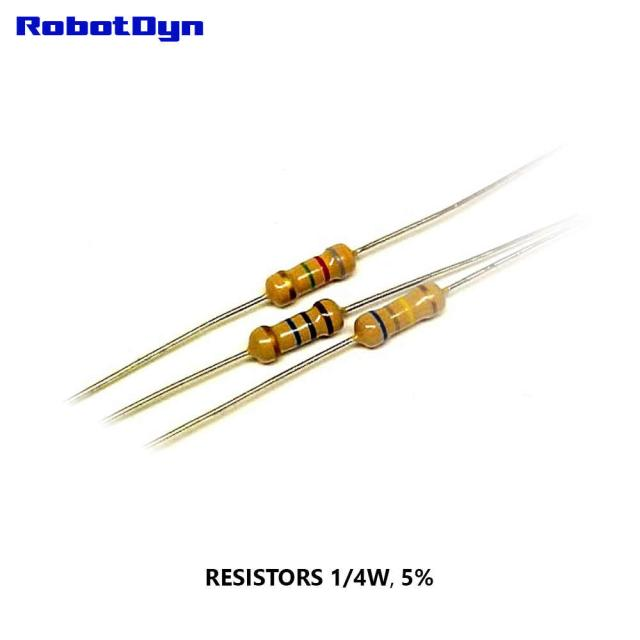Resistor: (247, 297, 345, 363), (262, 242, 358, 309), (353, 281, 448, 348)
